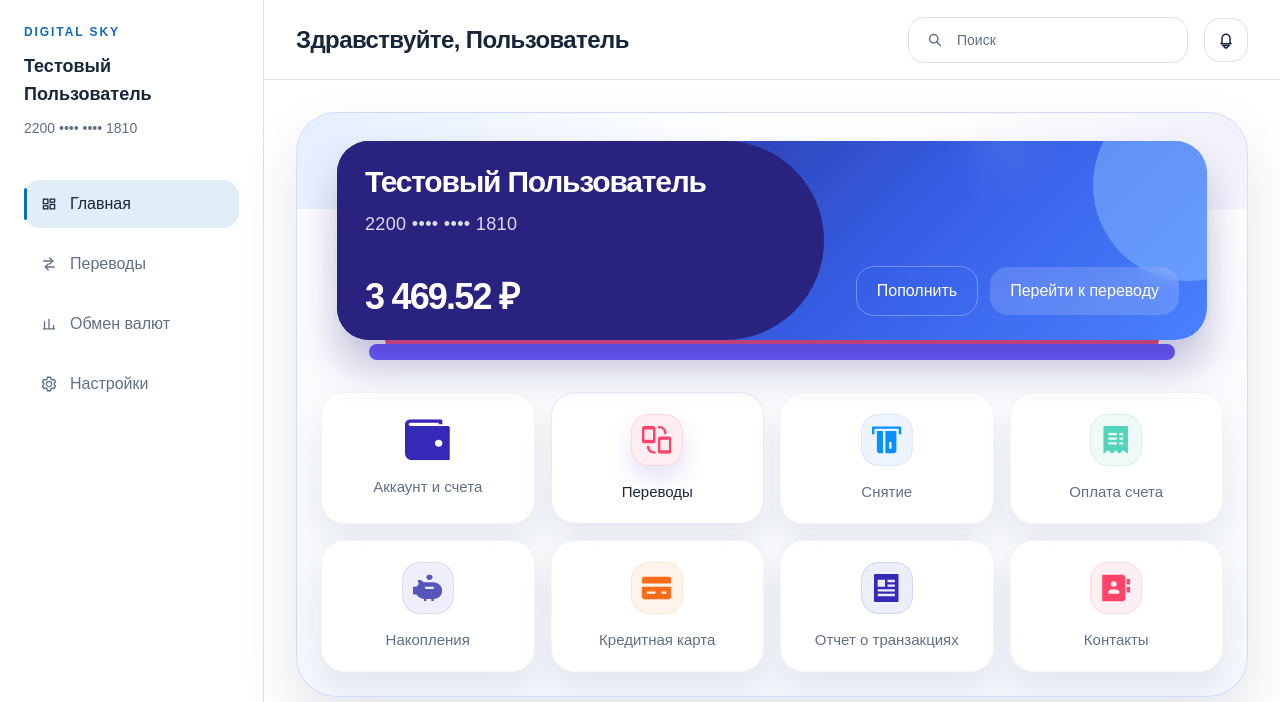
DashboardPage › routes to transfers from the account card CTA
What coordinates should you click on to do the following:
click the link "Перейти к переводу"
I would click on:
 (1085, 291)
Its box is [990,267,1179,315].
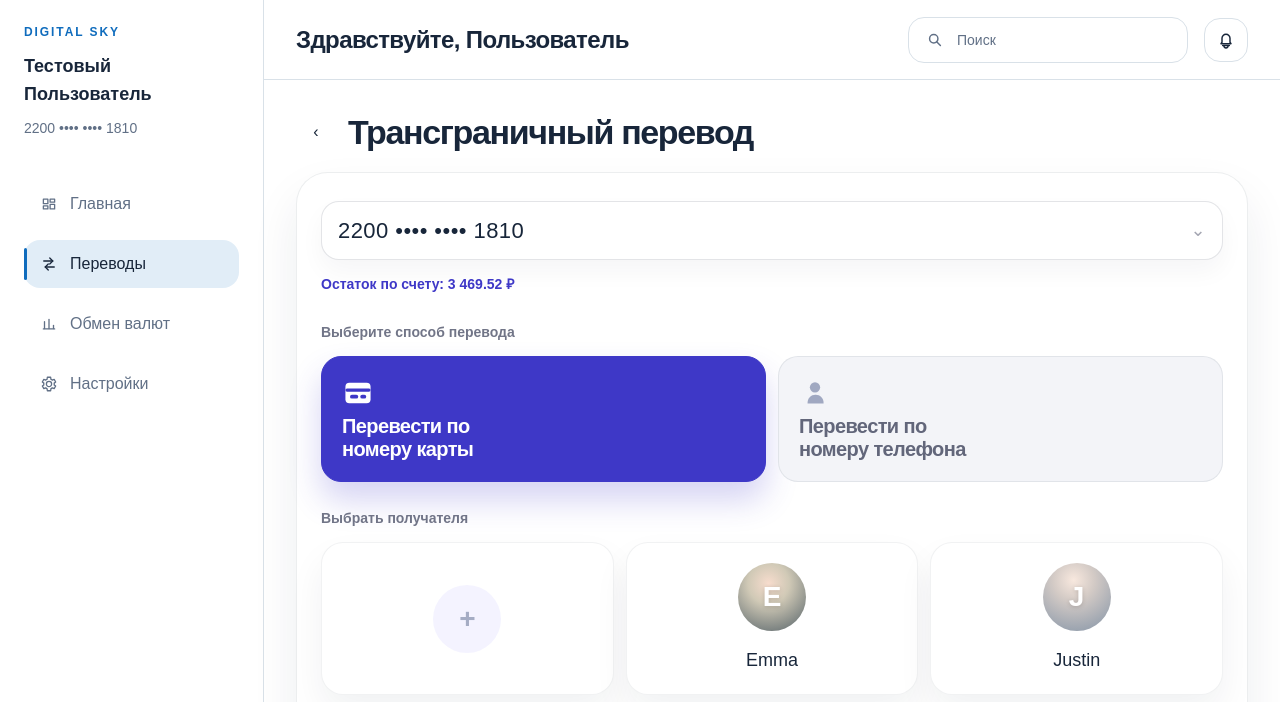
expect the heading "Трансграничный перевод" is shown: met, box [348,115,753,149]
